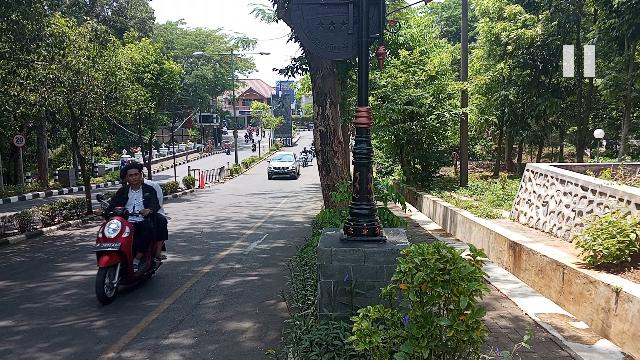motor: (93, 195, 170, 307)
non-helm: (120, 164, 144, 188)
